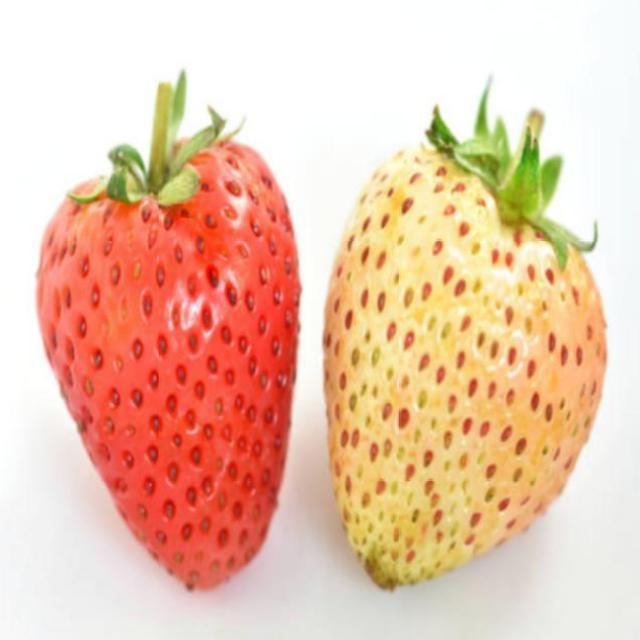Healthy Fruit: (321, 74, 608, 591), (34, 68, 302, 592)
